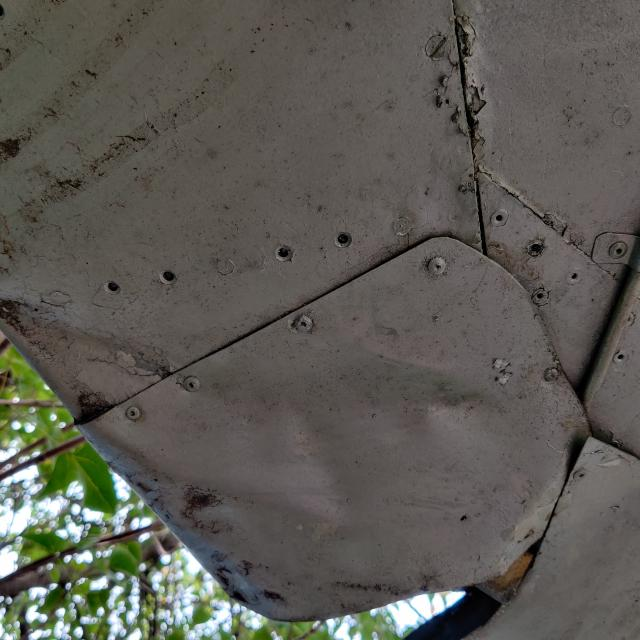dent: (0, 279, 521, 557)
